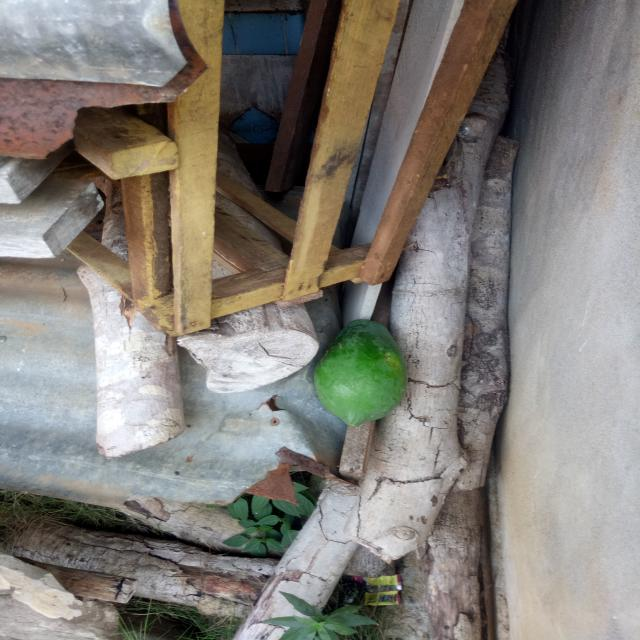Pepaya unrippen: (306, 312, 402, 429)
